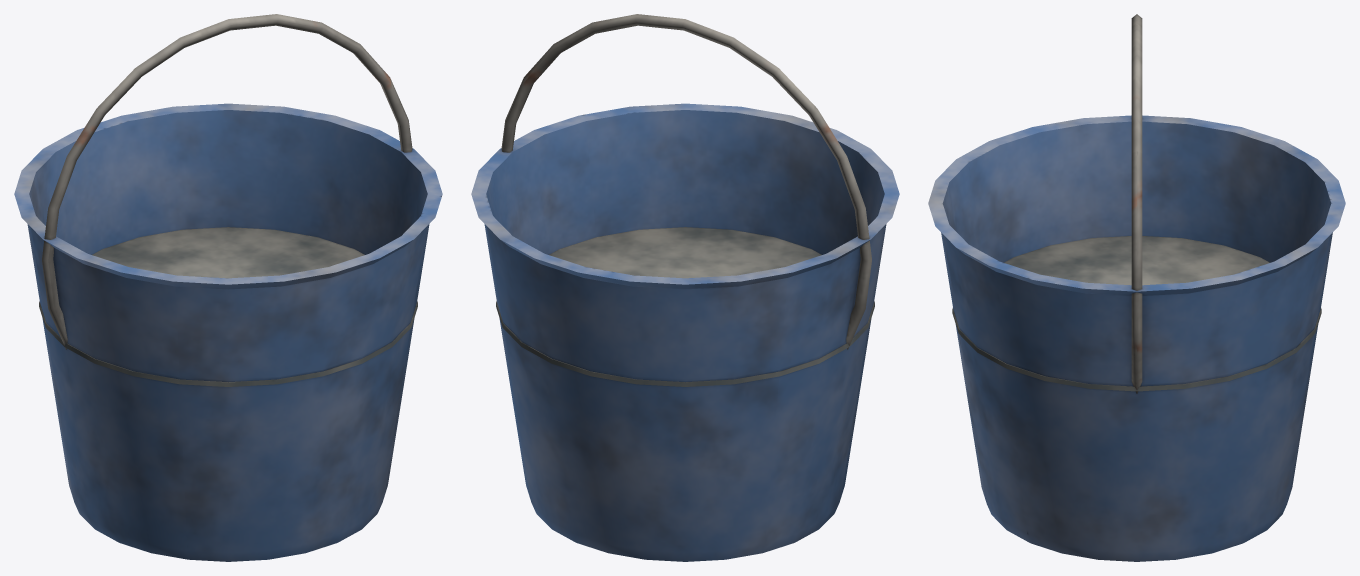
Rendered from leak_bucket.fbx.
The picture shows the model from 3 angles, left to right: view 1: azimuth 30°, elevation 25°; view 2: azimuth 150°, elevation 25°; view 3: azimuth 270°, elevation 25°; orthographic projection. The views are drawn at different scales.
Parts seen in each view (by area): view 1: Body; view 2: Body; view 3: Body.
Part boxes in pixels (x1,y1,x2,y2): Body: (14,14,442,561); Body: (471,14,899,561); Body: (928,14,1345,561).
Size of the model in its own units: 1.73 by 2.12 by 1.72.
1 material, 1 textured.
